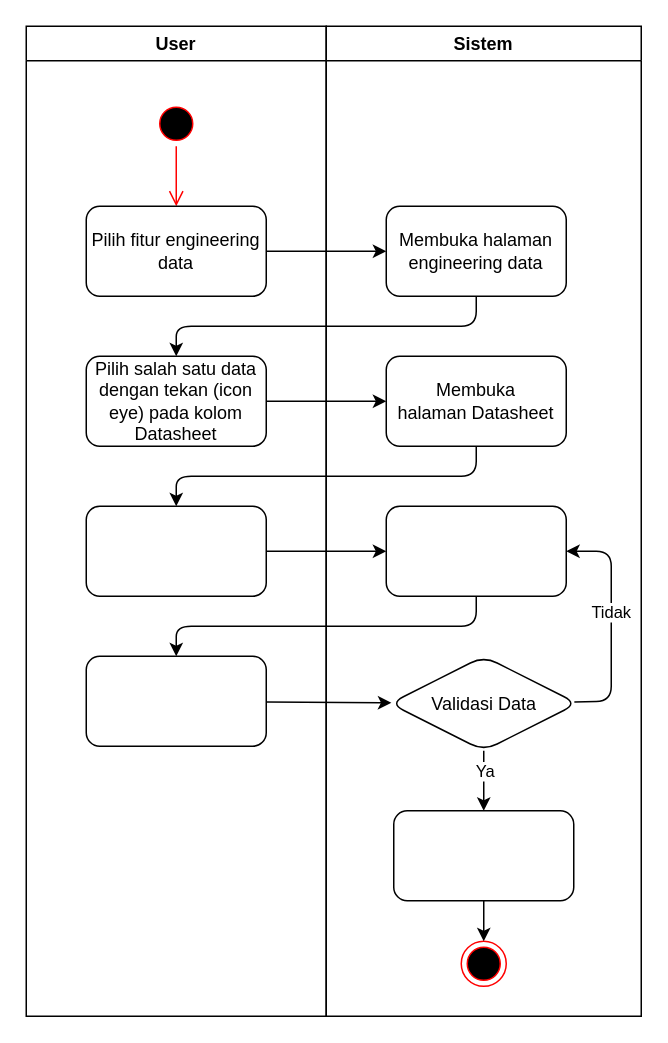
The diagram is 668 pixels wide and 1043 high, and some of its shapes have lost their labels. Here are the shapes that lost their labels. From the top down, the centre of each, then its label:
point (175, 550): Pilih salah satu tombol edit pada kolom aksi (icon pen)
point (475, 550): Menampilkan halaman edit data Datasheet
point (175, 700): Edit data Datasheet
point (483, 855): Perubahan data berhasil tersimpan
